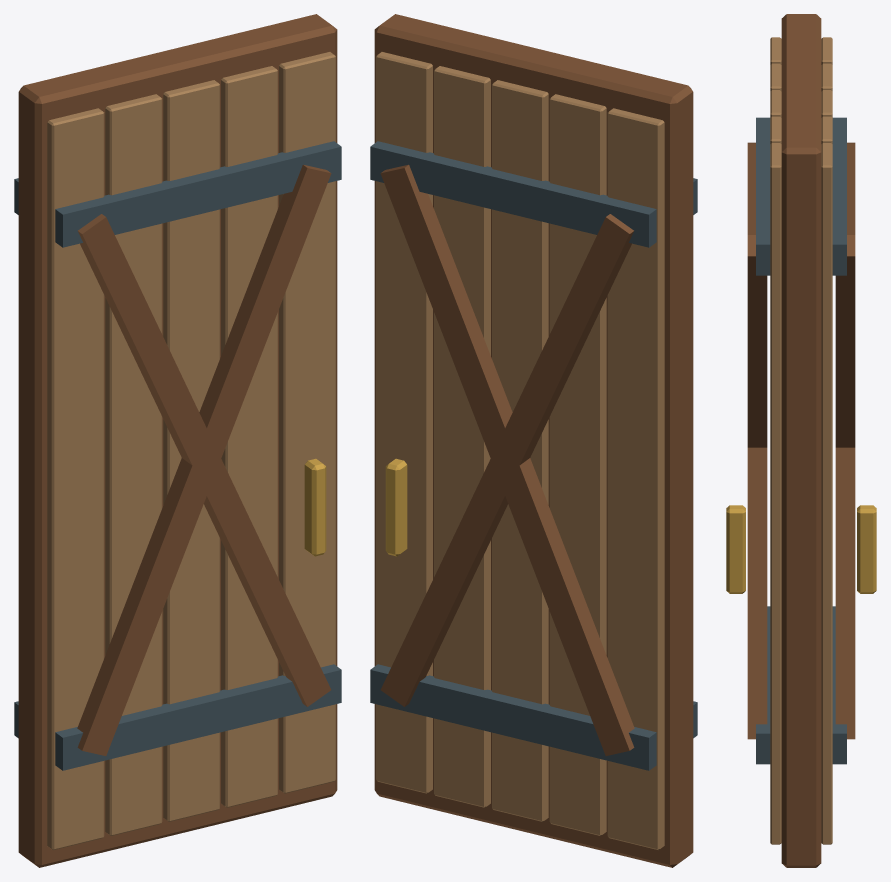
File: door_garden_gate.glb
3 renders of one model, left to right at view 1: azimuth 30°, elevation 25°; view 2: azimuth 150°, elevation 25°; view 3: azimuth 270°, elevation 25°, orthographic. The views are drawn at different scales.
Visible parts, largest first — view 1: door_garden_gate; view 2: door_garden_gate; view 3: door_garden_gate.
Boxes of the visible parts, x1,y1,x2,y2 form: door_garden_gate: (14,14,341,867); door_garden_gate: (370,14,697,867); door_garden_gate: (726,14,876,867).
Bounding box in the file's own units: 1.15 × 2.8 × 0.53.
